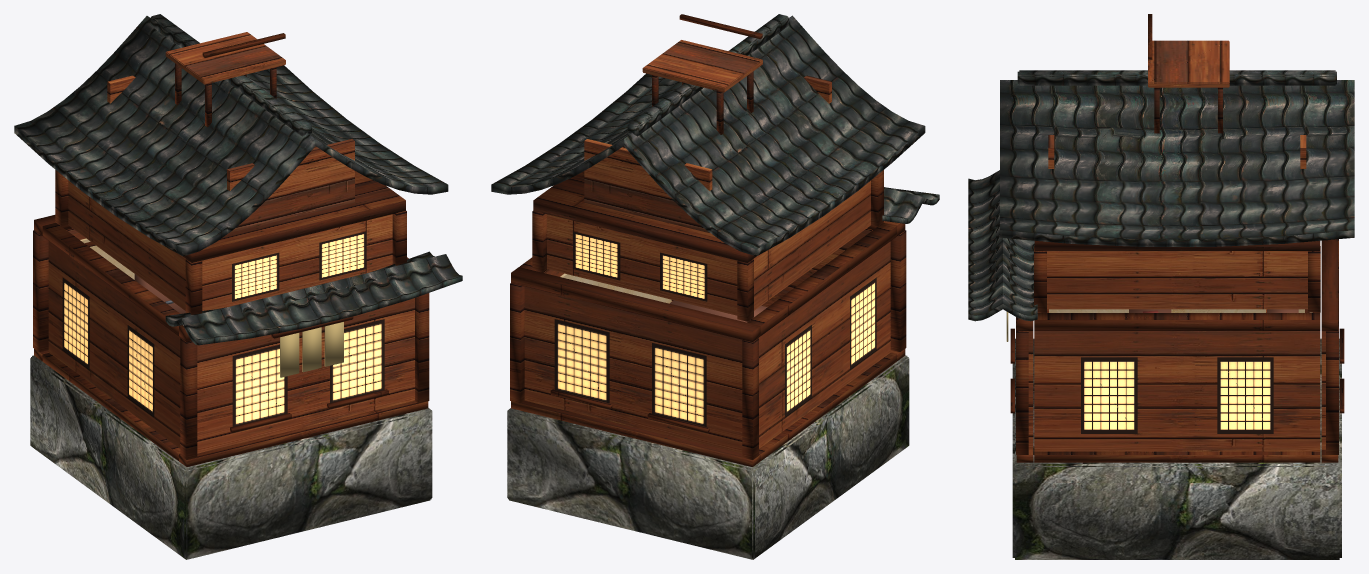
File: machiya_hero_v2.glb
3 renders of one model, left to right at view 1: azimuth 30°, elevation 25°; view 2: azimuth 150°, elevation 25°; view 3: azimuth 270°, elevation 25°, orthographic. The views are drawn at different scales.
Visible parts, largest first — view 1: peek_roof_kawara, exterior_stone, exterior_cedar, exterior_charred, peek_upper_cedar, exterior_shoji, exterior_hisashi, peek_roof_cedar, peek_upper_charred, peek_upper_shoji, exterior_noren, peek_roof_charred; view 2: peek_roof_kawara, exterior_stone, exterior_cedar, exterior_charred, peek_upper_cedar, exterior_shoji, peek_roof_cedar, peek_upper_charred, peek_upper_shoji, exterior_hisashi, peek_roof_charred, interior_room_walls; view 3: peek_roof_kawara, exterior_stone, exterior_cedar, peek_upper_cedar, exterior_charred, exterior_shoji, exterior_hisashi, peek_roof_cedar, peek_upper_charred, peek_roof_charred, interior_room_walls.
Boxes of the visible parts, <box> form: peek_roof_kawara: <box>14,14,448,256</box>; exterior_stone: <box>30,355,432,559</box>; exterior_cedar: <box>48,228,414,453</box>; exterior_charred: <box>33,215,429,466</box>; peek_upper_cedar: <box>68,180,392,310</box>; exterior_shoji: <box>62,277,384,426</box>; exterior_hisashi: <box>165,251,462,345</box>; peek_roof_cedar: <box>107,32,354,232</box>; peek_upper_charred: <box>55,146,406,314</box>; peek_upper_shoji: <box>232,231,366,301</box>; exterior_noren: <box>280,322,343,377</box>; peek_roof_charred: <box>175,33,285,127</box>; peek_roof_kawara: <box>491,14,925,256</box>; exterior_stone: <box>507,355,909,559</box>; exterior_cedar: <box>524,228,890,453</box>; exterior_charred: <box>510,221,906,466</box>; peek_upper_cedar: <box>547,180,870,315</box>; exterior_shoji: <box>554,277,876,426</box>; peek_roof_cedar: <box>584,40,831,232</box>; peek_upper_charred: <box>532,146,883,321</box>; peek_upper_shoji: <box>573,231,707,301</box>; exterior_hisashi: <box>882,187,939,223</box>; peek_roof_charred: <box>652,14,762,134</box>; interior_room_walls: <box>560,273,671,303</box>; peek_roof_kawara: <box>1000,70,1354,246</box>; exterior_stone: <box>1012,338,1341,559</box>; exterior_cedar: <box>1028,241,1325,451</box>; peek_upper_cedar: <box>1047,251,1307,309</box>; exterior_charred: <box>1010,239,1344,462</box>; exterior_shoji: <box>1081,357,1273,433</box>; exterior_hisashi: <box>968,170,1037,321</box>; peek_roof_cedar: <box>1048,40,1306,168</box>; peek_upper_charred: <box>1034,241,1320,312</box>; peek_roof_charred: <box>1148,14,1222,133</box>; interior_room_walls: <box>1049,309,1312,312</box>.
Size of the model in its own units: 4.26 by 6.75 by 5.11.
15 materials, 9 textured.
